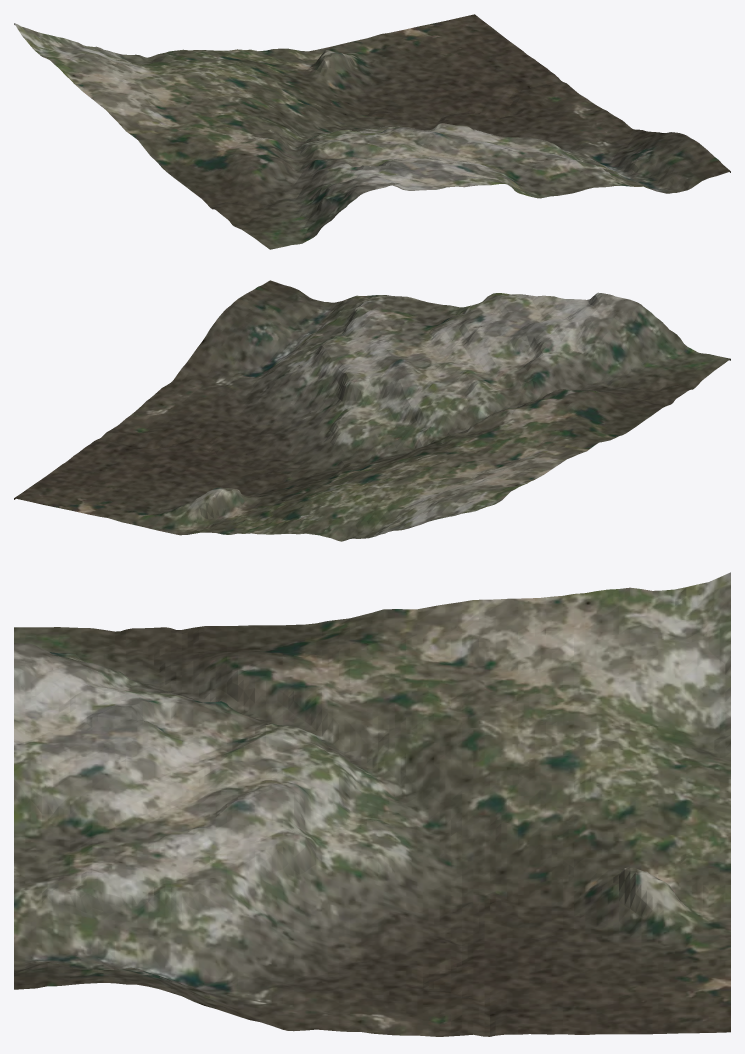
The picture shows the model from 3 angles, top to bottom: view 1: azimuth 30°, elevation 25°; view 2: azimuth 150°, elevation 25°; view 3: azimuth 270°, elevation 25°; orthographic projection. The views are drawn at different scales.
Size of the model in its own units: 250 by 56.56 by 241.
1 material, 1 textured.
